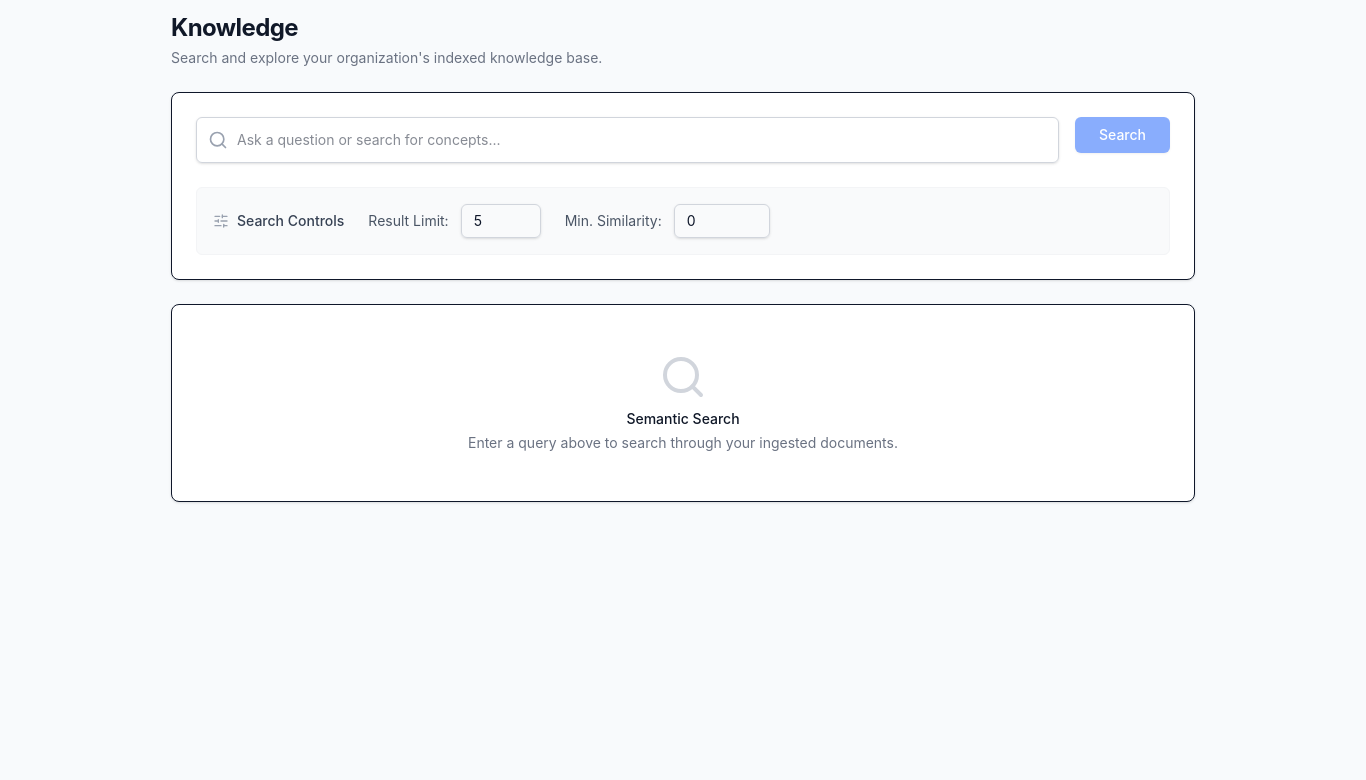
Test: Knowledge Page Search Controls & Grouping › handles consecutive searches using updated query and controls
The image size is (1366, 780).
# First search
Type "test query" into the field with placeholder "Ask a question or search for concepts..." at [628, 140], box [196,117,1059,163]
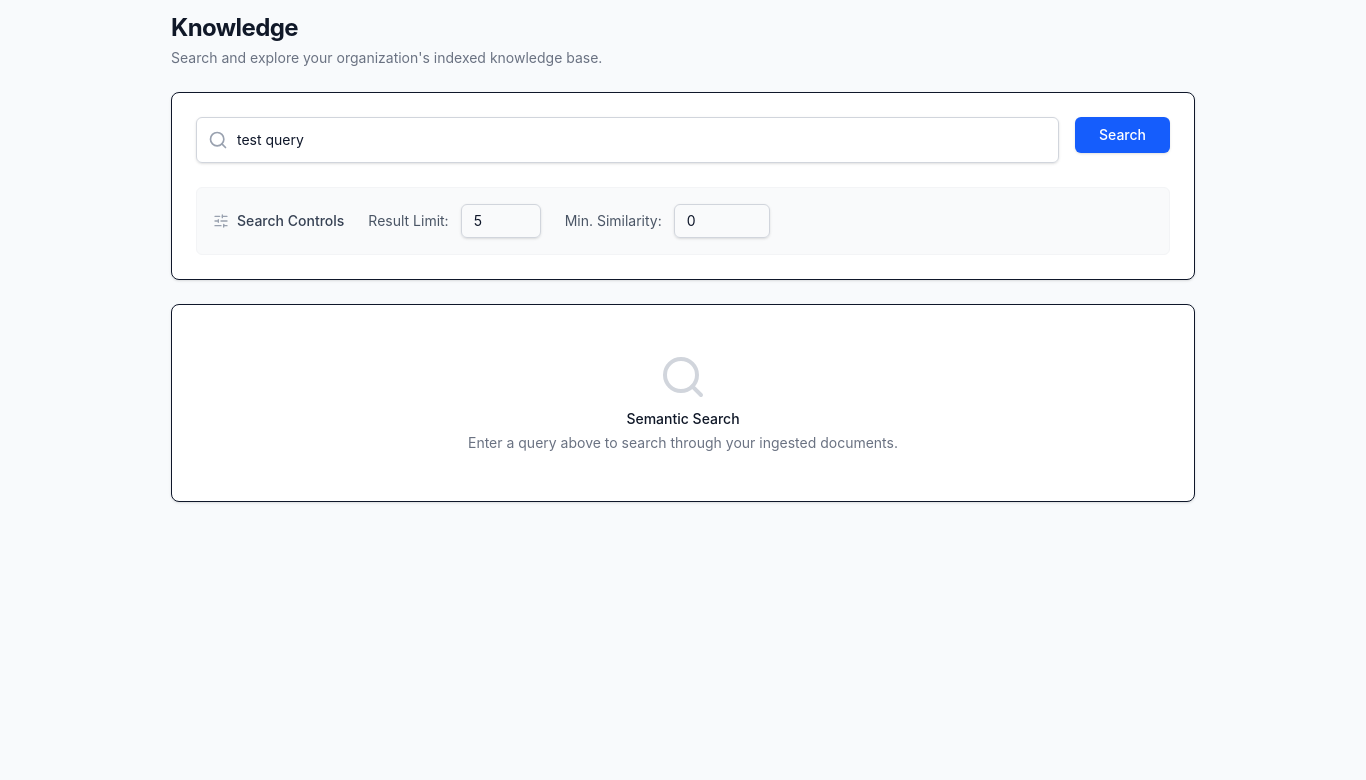
Click the button "Search" at [1122, 135], box [1075,117,1170,153]
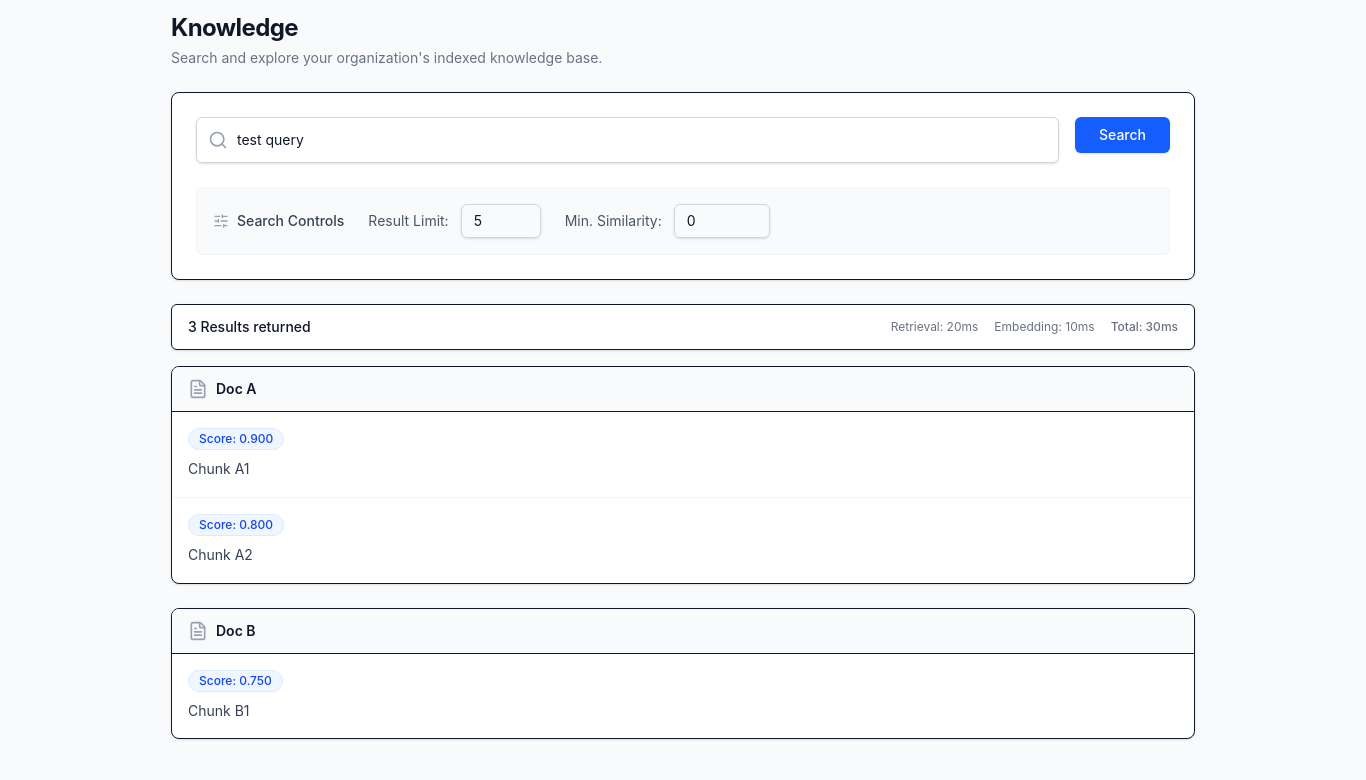
Now the heading "3 Results returned" is shown, box [188,317,311,337]
# Second search
Replace the text in the field with placeholder "Ask a question or search for concepts..." with "new query" at [628, 140], box [196,117,1059,163]
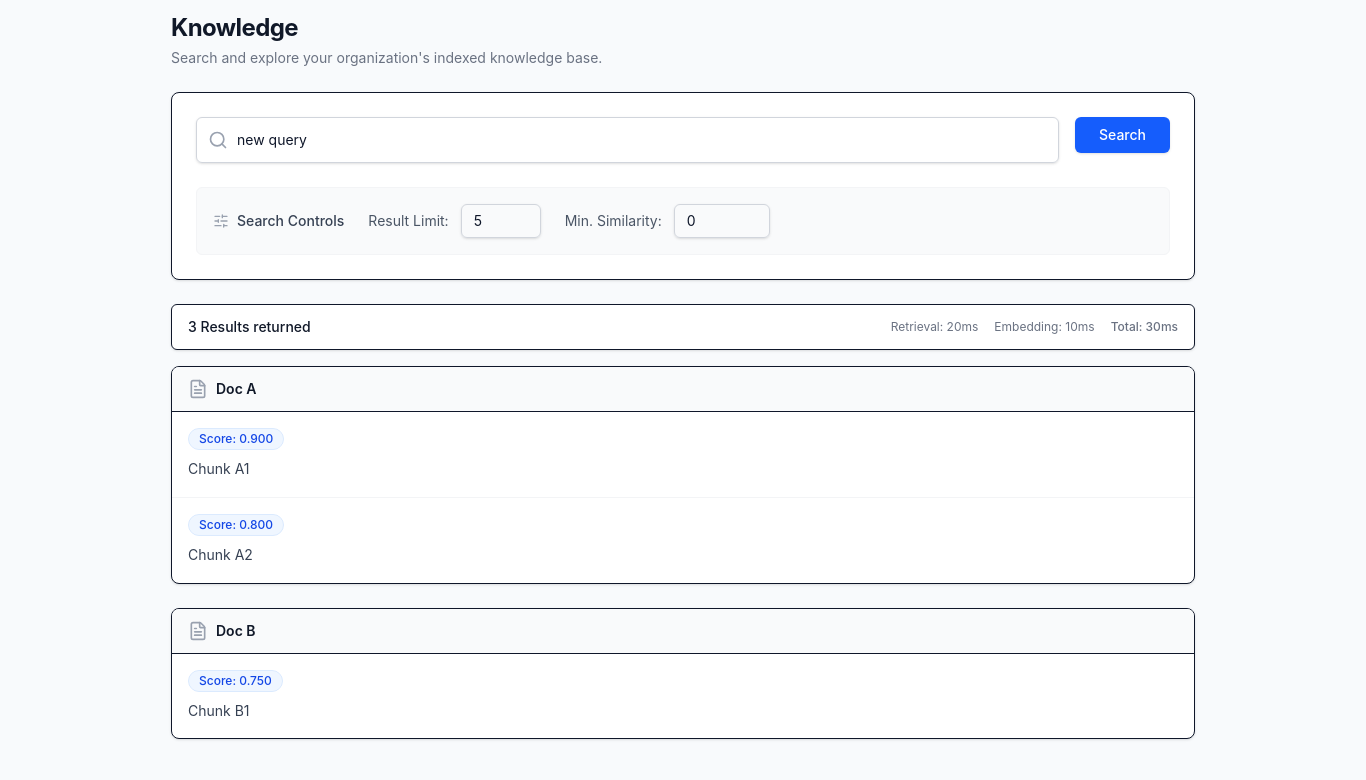
Replace the text in the number field labelled "Result Limit:" with "10" at [501, 221], box [461,204,541,238]
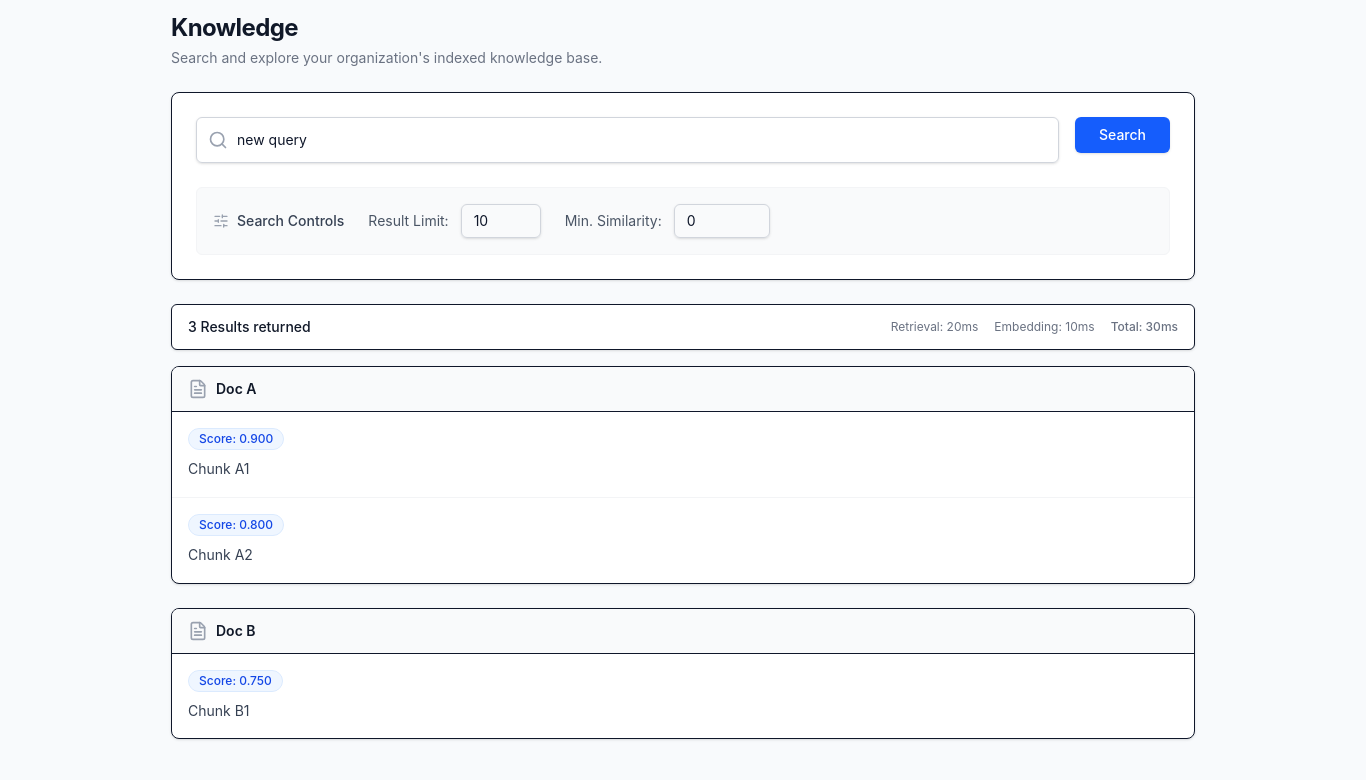
Click the button "Search" at [1122, 135], box [1075,117,1170,153]
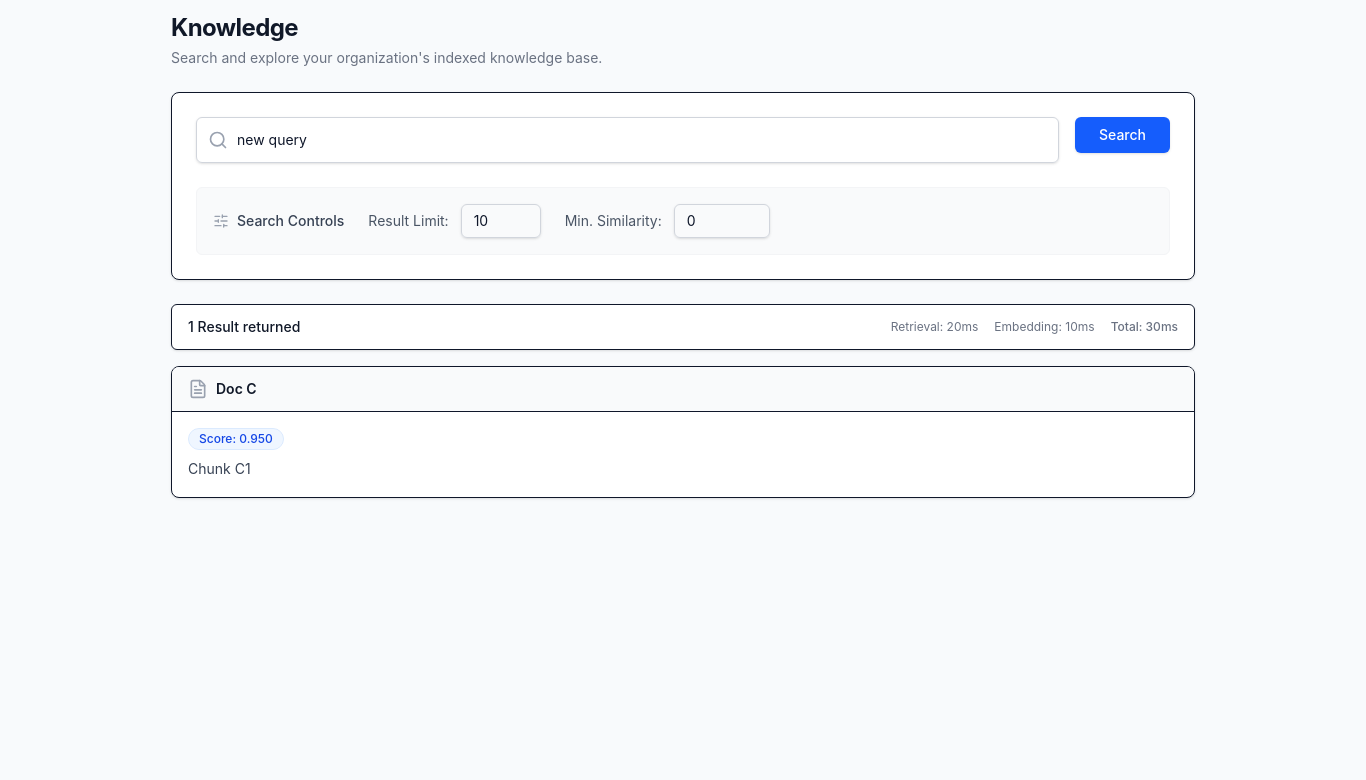
Now the heading "1 Result returned" is shown, box [188,317,300,337]
Now the text "Doc C" is shown, box [216,379,257,399]
